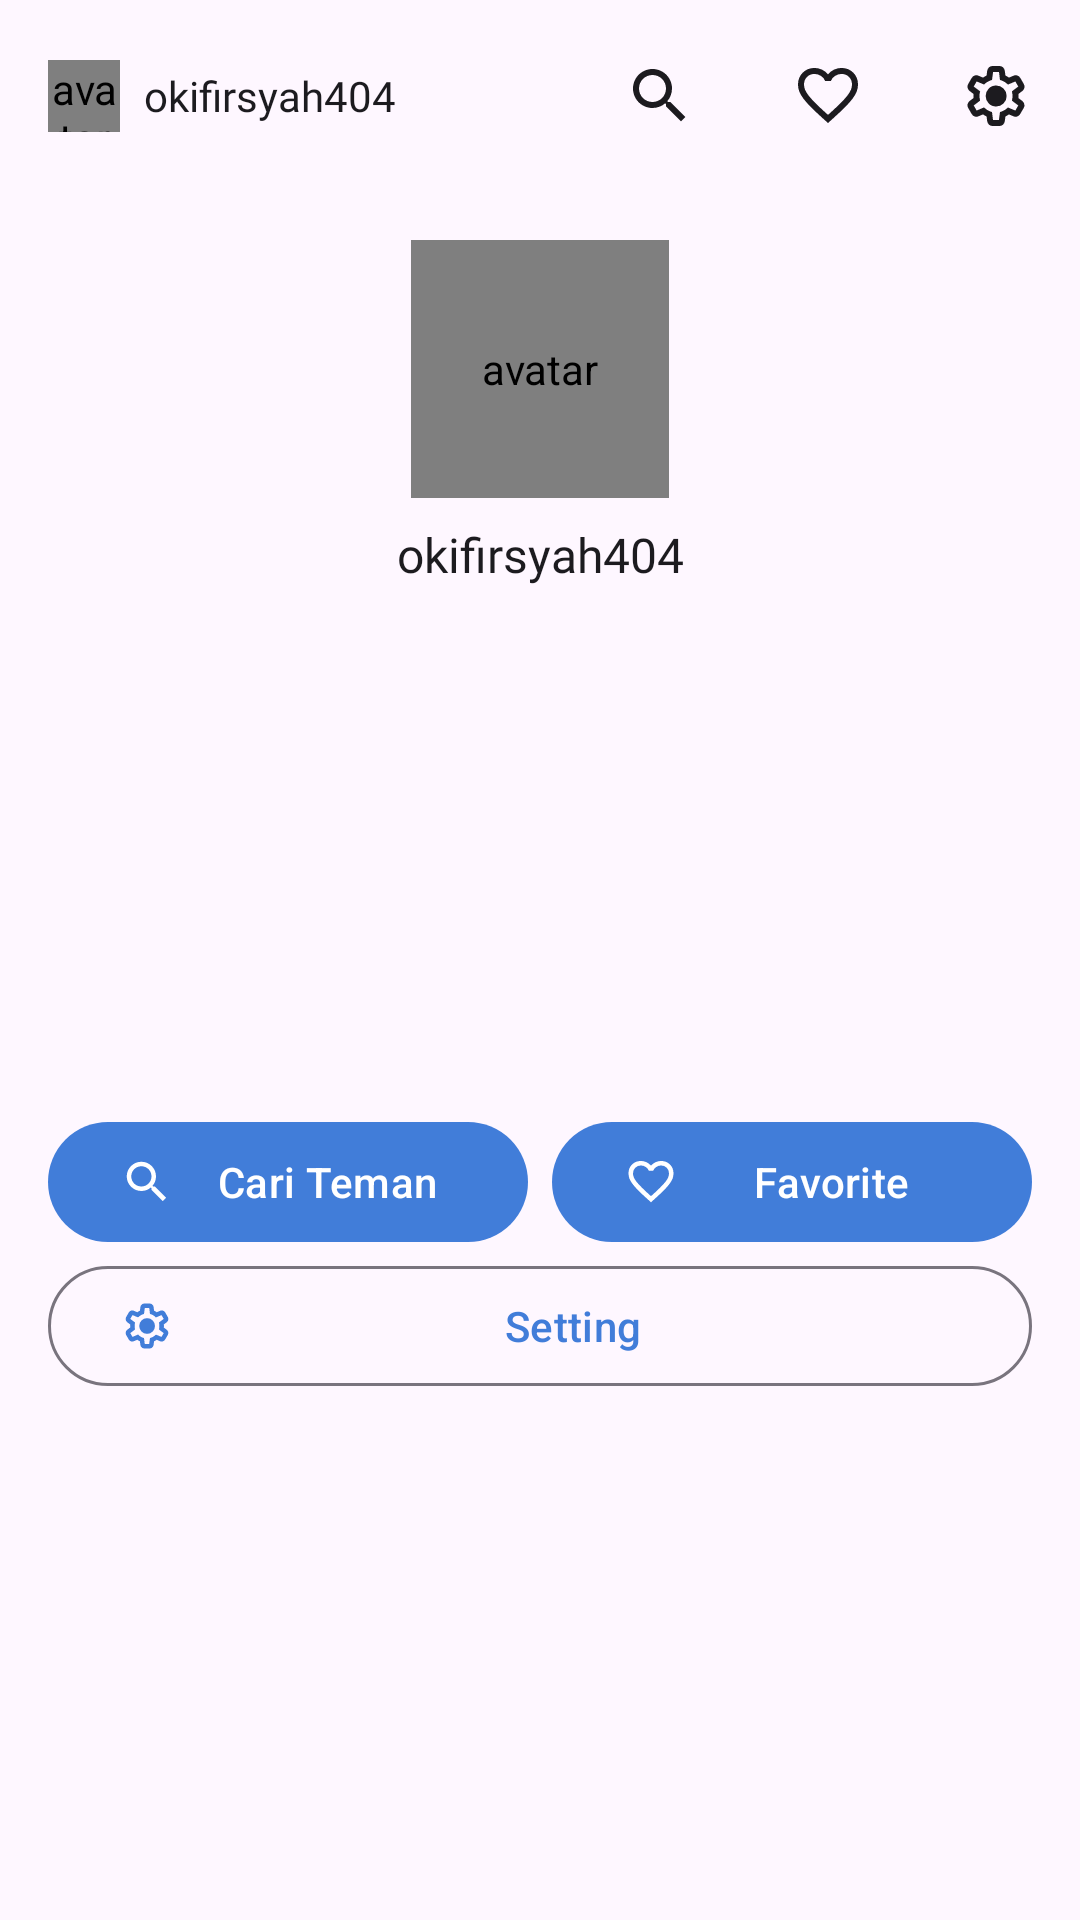

Screen size 1080 × 1920. Icon name, then its box in pixels as (x1, y1, x2, y2):
favorite: (798, 68, 858, 123)
search: (633, 69, 685, 121)
setting: (967, 66, 1025, 126)
